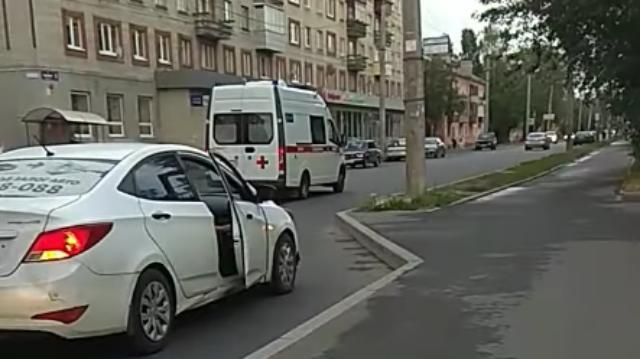ambulance: (209, 76, 348, 202)
non emergency car: (1, 138, 305, 359), (341, 136, 385, 170), (420, 137, 450, 162), (522, 132, 552, 154), (475, 132, 500, 155)
